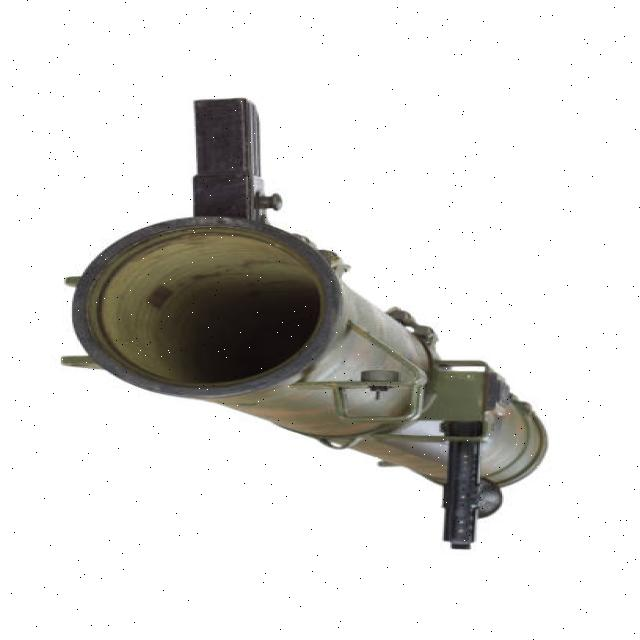bazooka: (44, 86, 556, 557)
